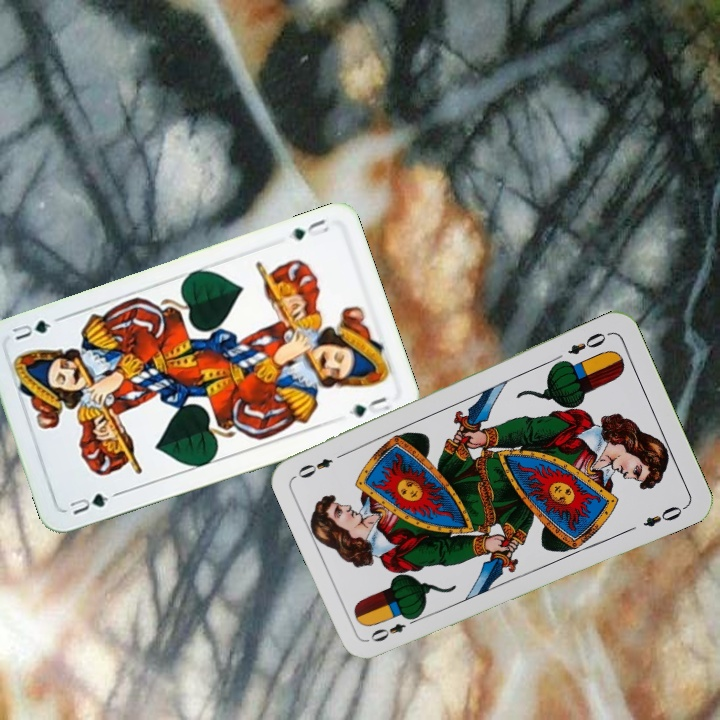EO: (366, 612, 422, 645), (563, 328, 613, 357)
GU: (65, 489, 121, 518), (284, 215, 332, 243)
